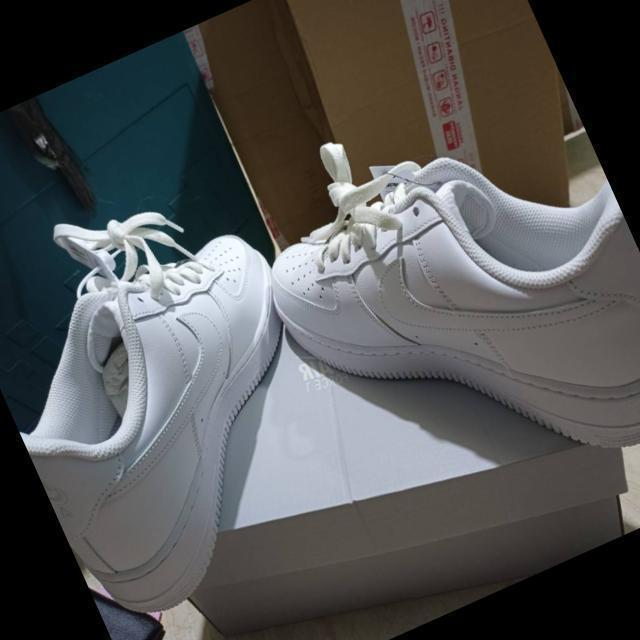nike original air force: (226, 54, 640, 554), (0, 184, 379, 635)
